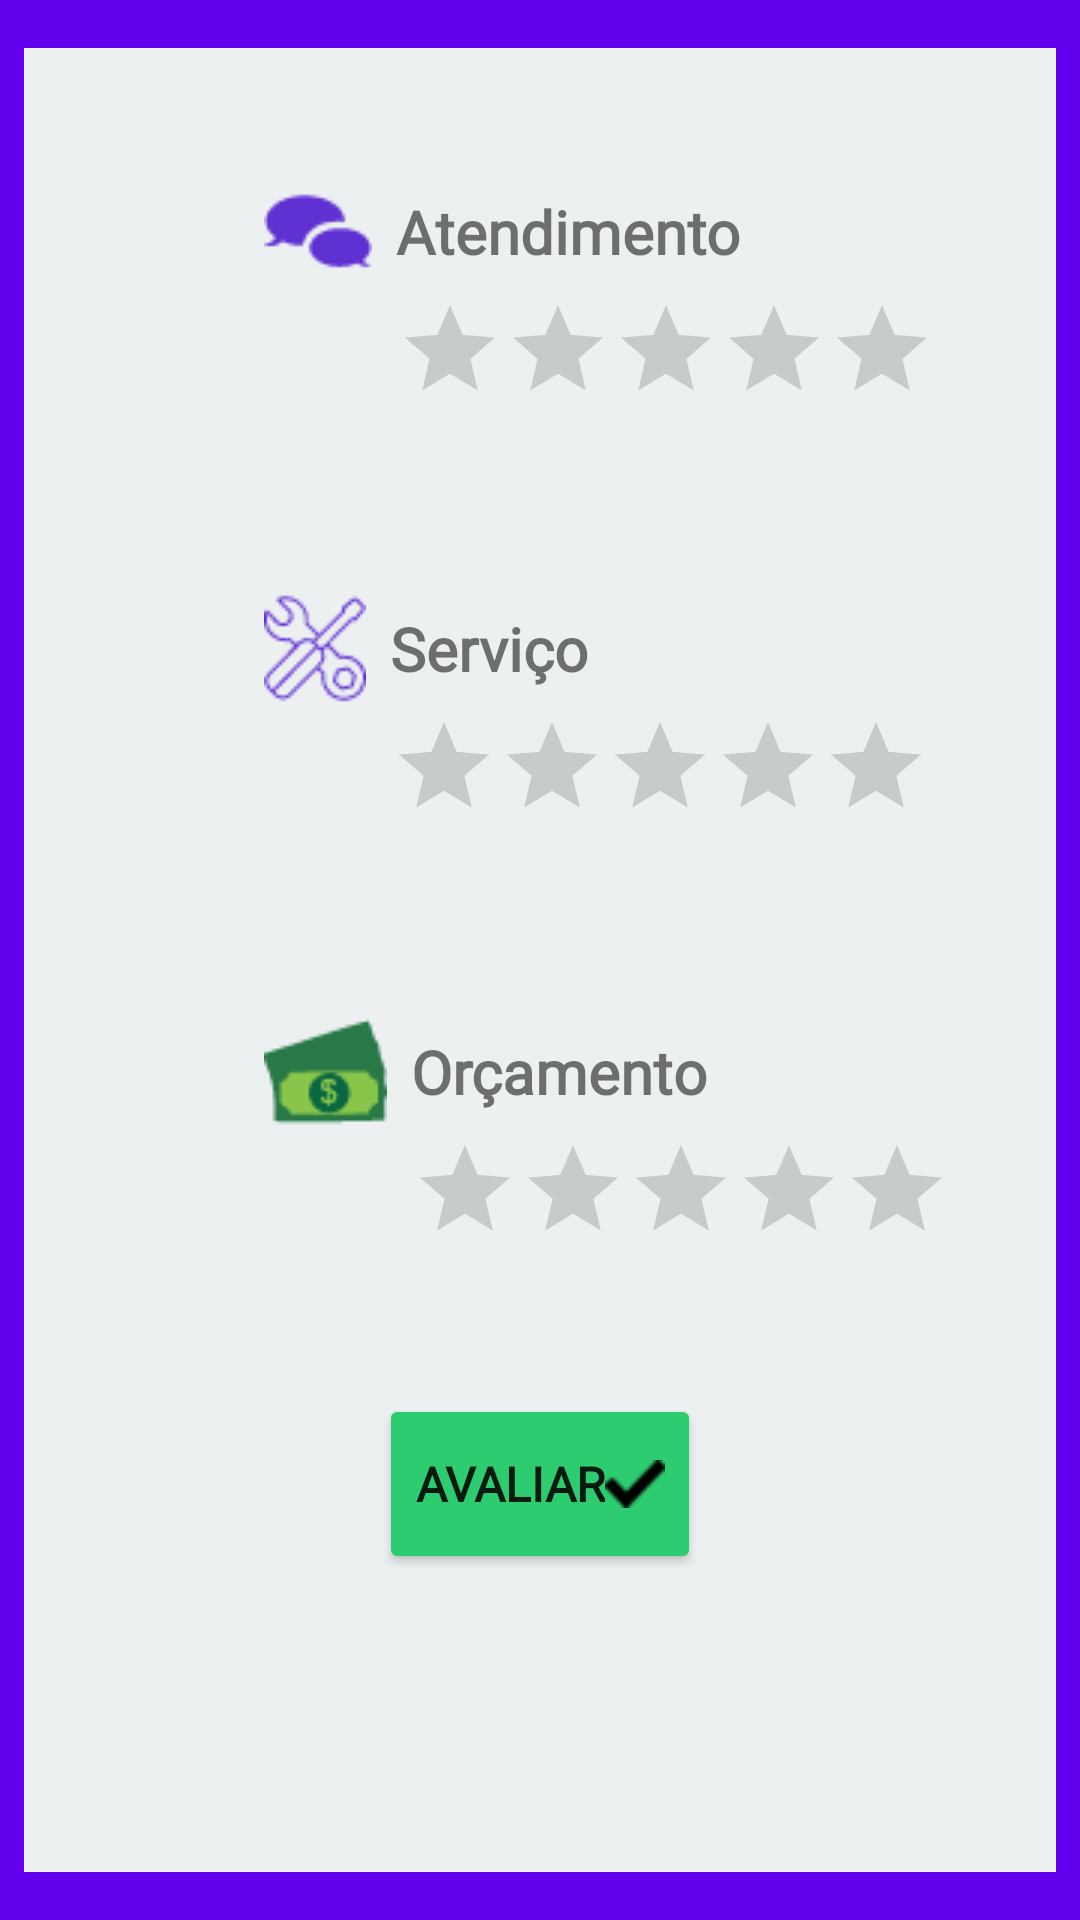

Icon click points for this 1080 × 1920 phone screenshot, format point (x, y):
money: point (325, 1071)
servico: point (315, 648)
